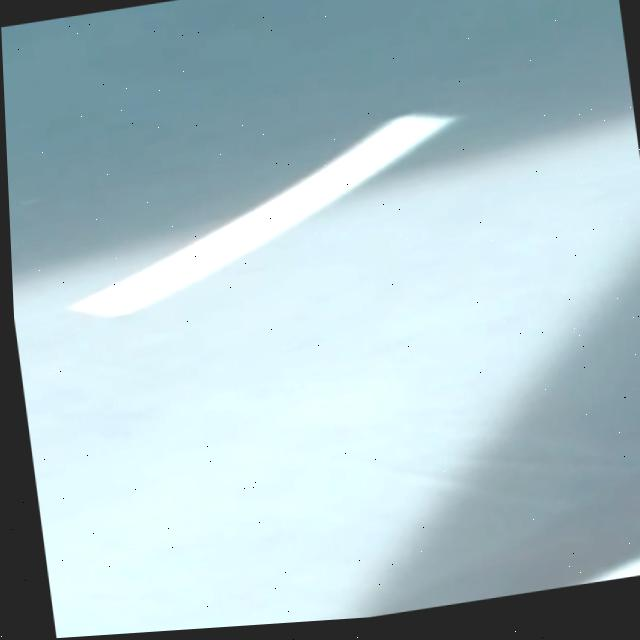center: (72, 114, 453, 315)
right: (586, 557, 640, 583)
